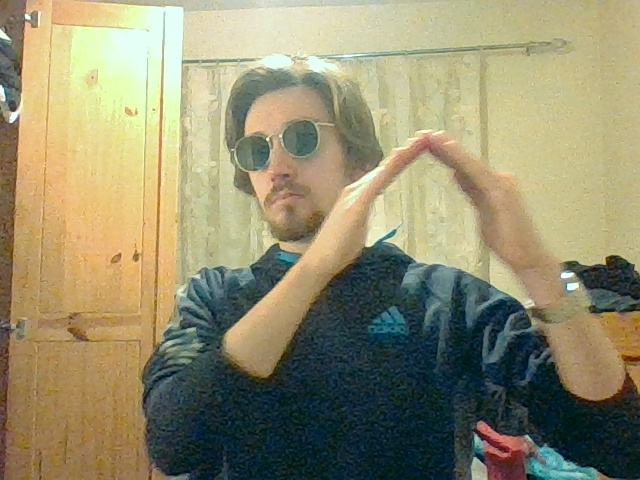home: (330, 130, 524, 213)
